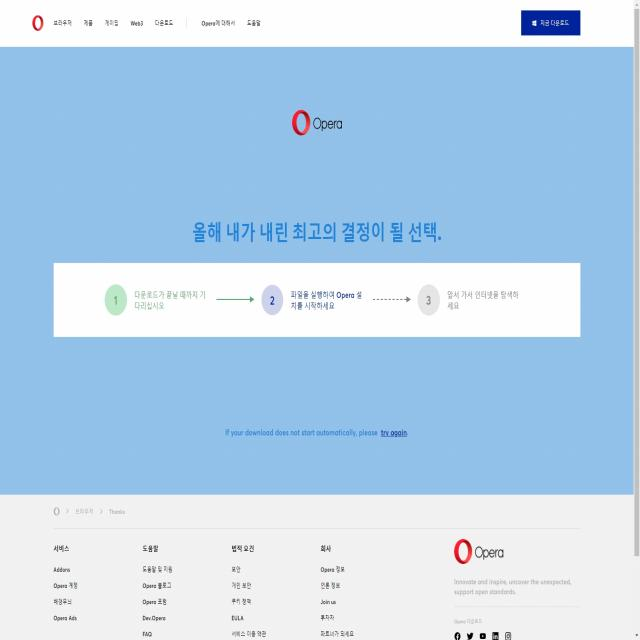menu-bar: (46, 9, 268, 38)
